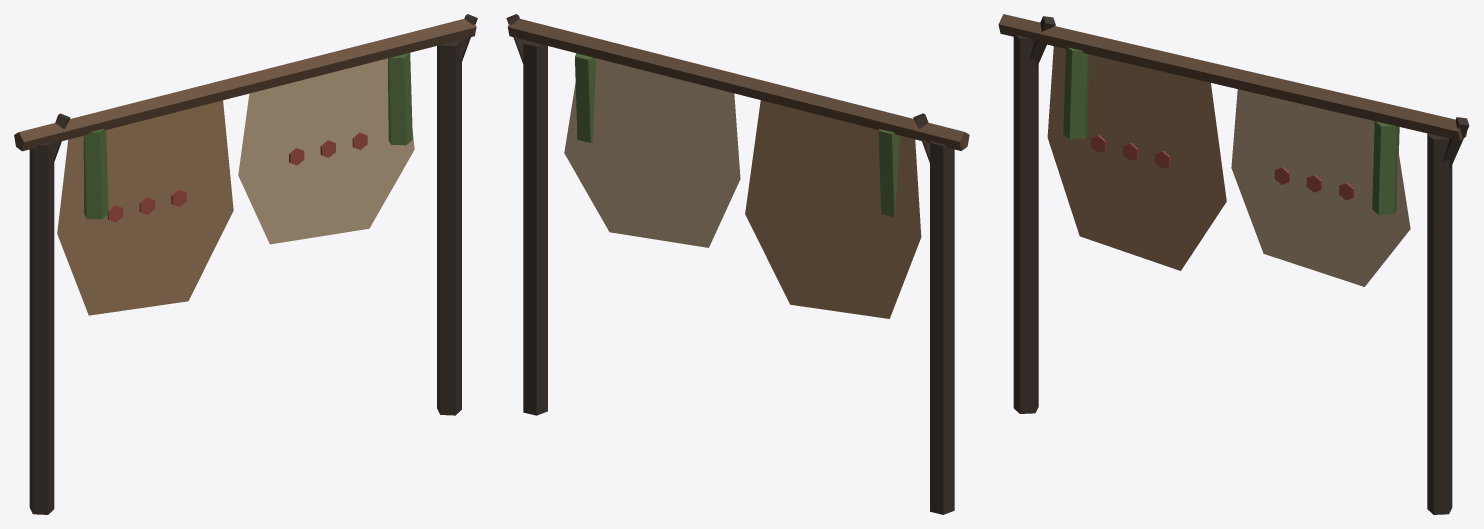
Rendered from drying_rack.glb.
The picture shows the model from 3 angles, left to right: view 1: azimuth 30°, elevation 25°; view 2: azimuth 150°, elevation 25°; view 3: azimuth 330°, elevation 25°; orthographic projection.
Visible parts, largest first — view 1: stretched hide, stretched hide.001, forked post, cross pole, forked post.001, herb bundle.001, herb bundle; view 2: stretched hide, stretched hide.001, cross pole, forked post.001, forked post, herb bundle.001, herb bundle; view 3: stretched hide, stretched hide.001, forked post.001, forked post, cross pole, herb bundle.001, herb bundle.
Boxes of the visible parts, left/top/right/bottom form: stretched hide: left=57, top=100, right=233, bottom=315; stretched hide.001: left=238, top=58, right=414, bottom=244; forked post: left=29, top=141, right=54, bottom=514; cross pole: left=14, top=19, right=476, bottom=151; forked post.001: left=437, top=40, right=461, bottom=415; herb bundle.001: left=388, top=53, right=412, bottom=145; herb bundle: left=83, top=128, right=108, bottom=219; stretched hide: left=745, top=100, right=921, bottom=318; stretched hide.001: left=564, top=58, right=740, bottom=247; cross pole: left=507, top=19, right=969, bottom=150; forked post.001: left=523, top=40, right=547, bottom=415; forked post: left=930, top=141, right=954, bottom=514; herb bundle.001: left=575, top=53, right=596, bottom=142; herb bundle: left=878, top=129, right=899, bottom=216; stretched hide: left=1047, top=46, right=1226, bottom=270; stretched hide.001: left=1231, top=89, right=1410, bottom=286; forked post.001: left=1427, top=133, right=1452, bottom=514; forked post: left=1013, top=35, right=1038, bottom=413; cross pole: left=998, top=14, right=1466, bottom=140; herb bundle.001: left=1372, top=121, right=1399, bottom=214; herb bundle: left=1063, top=47, right=1088, bottom=139.
Size of the model in its own units: 1.01 by 0.8258 by 0.0552.
